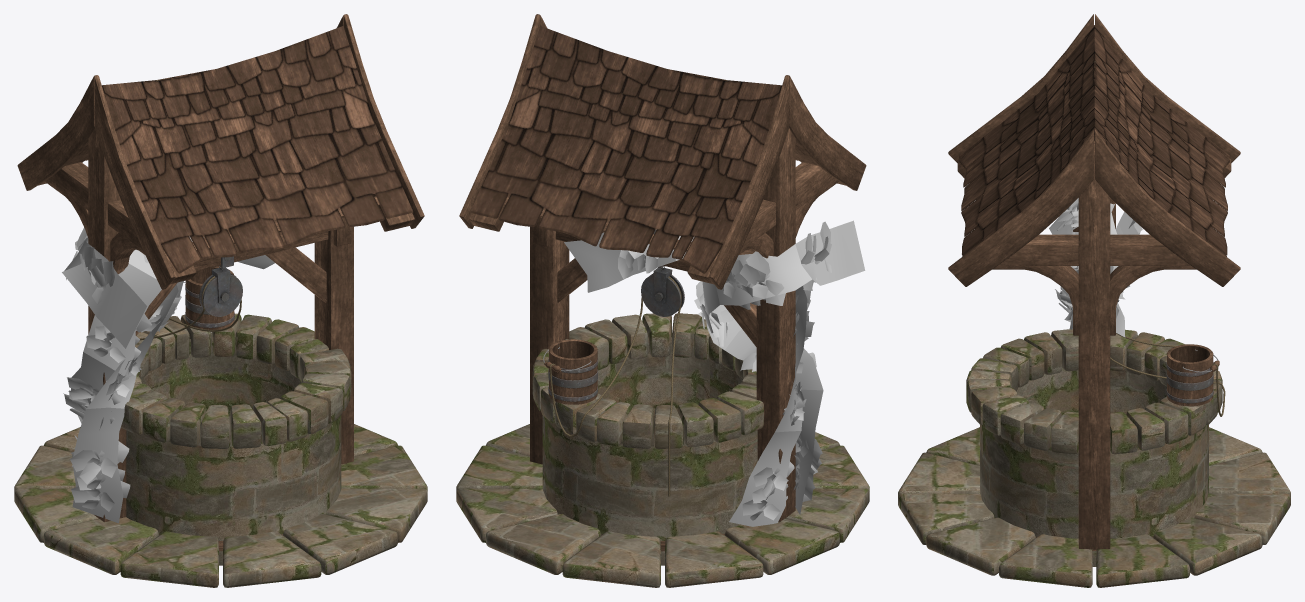
The model's file is Well.fbx.
The picture shows the model from 3 angles, left to right: view 1: azimuth 30°, elevation 25°; view 2: azimuth 150°, elevation 25°; view 3: azimuth 270°, elevation 25°; orthographic projection. The views are drawn at different scales.
Parts seen in each view (by area): view 1: Wood_Sommet, Cylinder, WEll_Baseslesh.003, Cube.003, Cylinder.001, 0_Ivy.026, 0_Ivy.025, Cube.001, Bucket_low, Wood_Sommet_Refrence_Edge_0.001; view 2: Wood_Sommet, Cylinder, Cube.003, WEll_Baseslesh.003, Cylinder.001, 0_Ivy.026, 0_Ivy.025, Bucket_low, Cube.001, Rope_Low, Wood_Sommet_Refrence_Edge_0.001; view 3: Cube.003, Cylinder, Wood_Sommet, WEll_Baseslesh.003, Cylinder.001, Bucket_low, 0_Ivy.025, 0_Ivy.026, Rope_Low, Wood_Sommet_Refrence_Edge_0.001.
Part boxes in pixels (left/top/right/bottom): Wood_Sommet: left=102, top=25, right=412, bottom=272; Cylinder: left=14, top=424, right=427, bottom=587; WEll_Baseslesh.003: left=126, top=337, right=341, bottom=565; Cube.003: left=17, top=14, right=424, bottom=522; Cylinder.001: left=121, top=313, right=351, bottom=448; 0_Ivy.026: left=62, top=227, right=183, bottom=523; 0_Ivy.025: left=63, top=236, right=274, bottom=466; Cube.001: left=199, top=256, right=242, bottom=316; Bucket_low: left=183, top=266, right=236, bottom=329; Wood_Sommet_Refrence_Edge_0.001: left=162, top=182, right=412, bottom=273; Wood_Sommet: left=470, top=26, right=781, bottom=272; Cylinder: left=456, top=424, right=869, bottom=587; Cube.003: left=459, top=14, right=866, bottom=522; WEll_Baseslesh.003: left=542, top=337, right=757, bottom=565; Cylinder.001: left=532, top=313, right=763, bottom=448; 0_Ivy.026: left=694, top=220, right=865, bottom=514; 0_Ivy.025: left=564, top=229, right=814, bottom=526; Bucket_low: left=543, top=339, right=597, bottom=404; Cube.001: left=641, top=265, right=684, bottom=316; Rope_Low: left=549, top=274, right=681, bottom=496; Wood_Sommet_Refrence_Edge_0.001: left=470, top=183, right=721, bottom=273; Cube.003: left=948, top=14, right=1240, bottom=549; Cylinder: left=898, top=427, right=1290, bottom=587; Wood_Sommet: left=959, top=25, right=1230, bottom=256; WEll_Baseslesh.003: left=980, top=367, right=1208, bottom=566; Cylinder.001: left=966, top=329, right=1222, bottom=454; Bucket_low: left=1166, top=344, right=1219, bottom=406; 0_Ivy.025: left=1049, top=198, right=1125, bottom=337; 0_Ivy.026: left=1055, top=212, right=1142, bottom=329; Rope_Low: left=1110, top=333, right=1225, bottom=416; Wood_Sommet_Refrence_Edge_0.001: left=959, top=137, right=1230, bottom=255.
Size of the model in its own units: 180 by 180 by 231.
